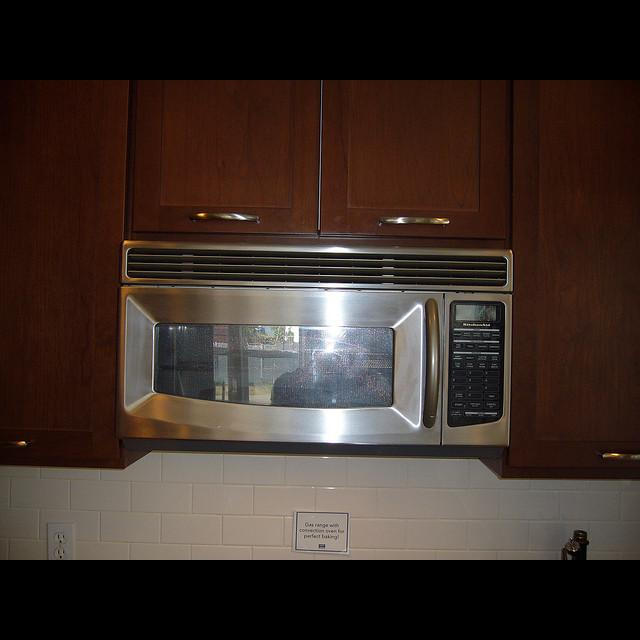Microwave: (115, 281, 513, 449)
